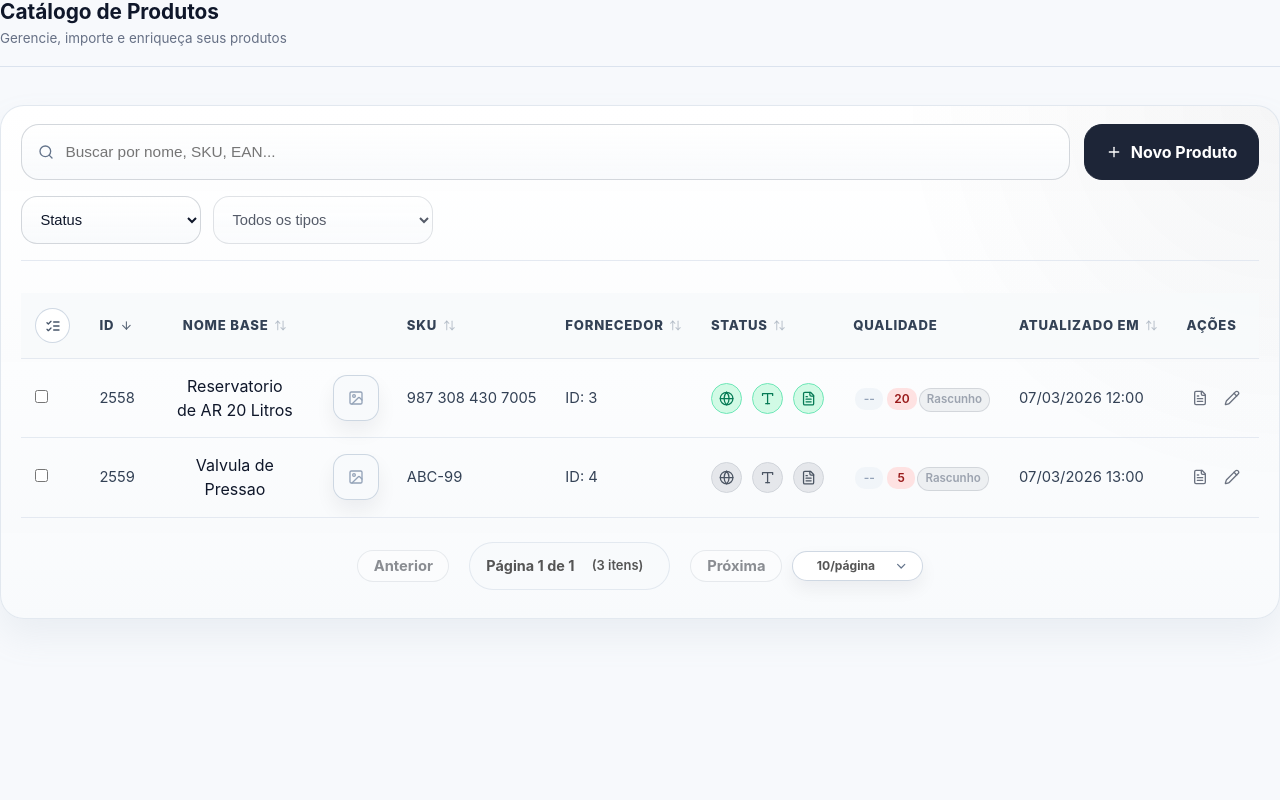
Test: ProdutosPage › supports selecting the current page and all filtered product results
The image size is (1280, 800).
Expected: the text "Reservatorio de AR 20 Litros" is shown, [149, 359, 320, 438]
Click the button named "Opções de seleção" at (53, 326), box [35, 308, 70, 343]
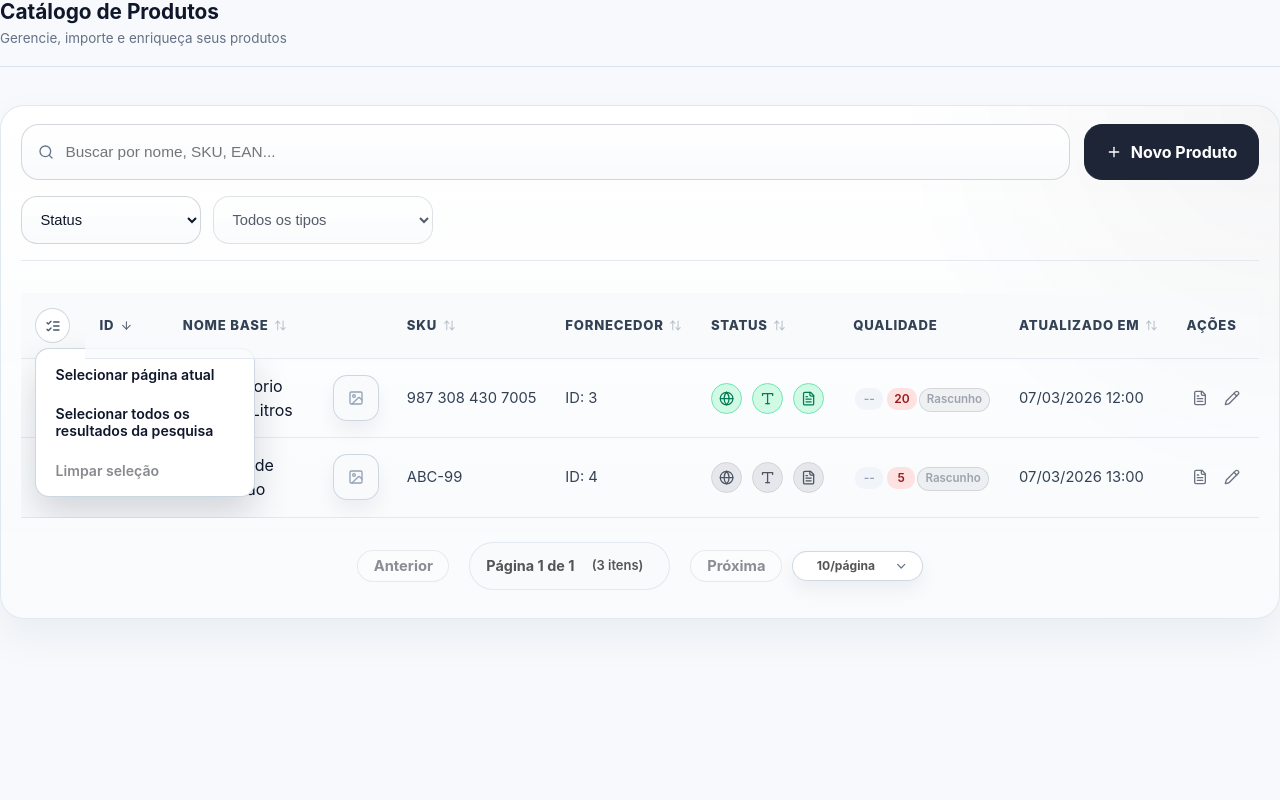
Click the menu item "Selecionar página atual" at (145, 375), box [42, 355, 249, 394]
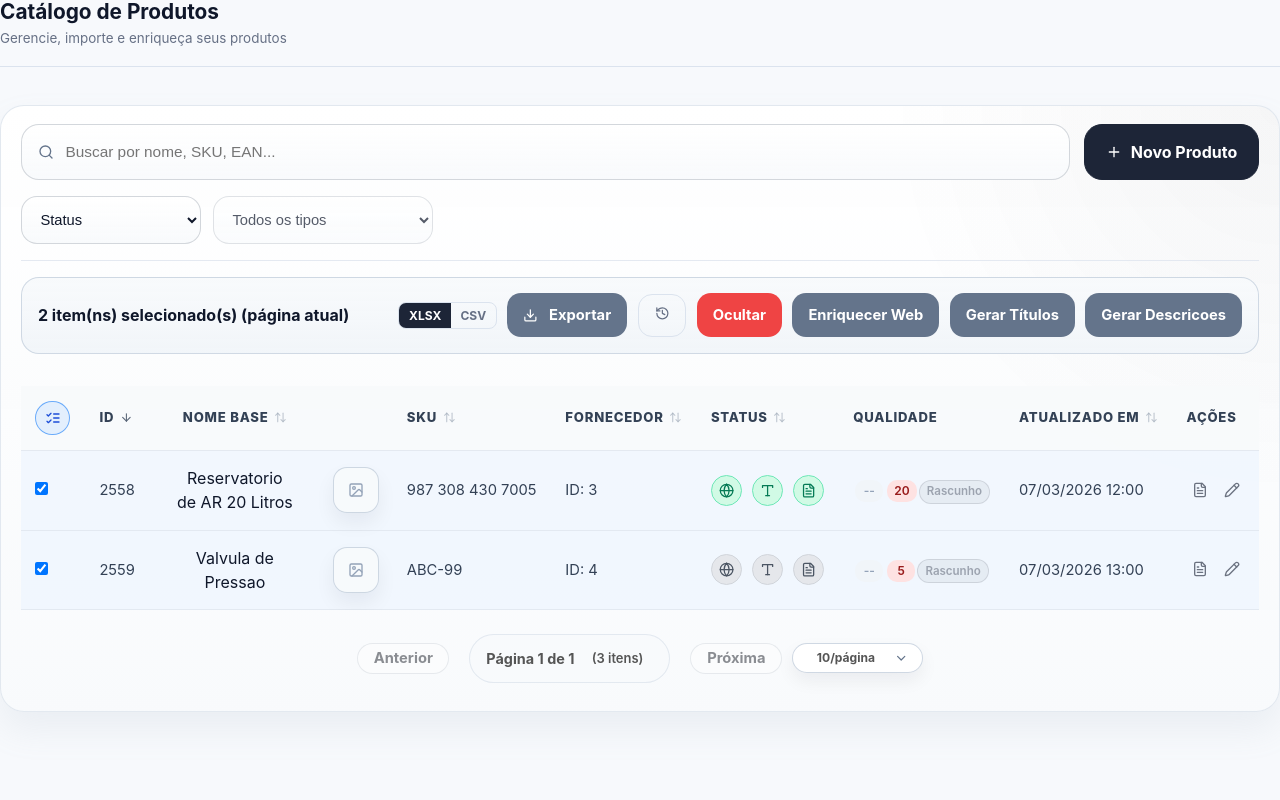
Expected: the text "2 item(ns) selecionado(s) (página atual)" is shown, [38, 303, 349, 327]
Click the button named "Opções de seleção" at (53, 418), box [35, 401, 70, 435]
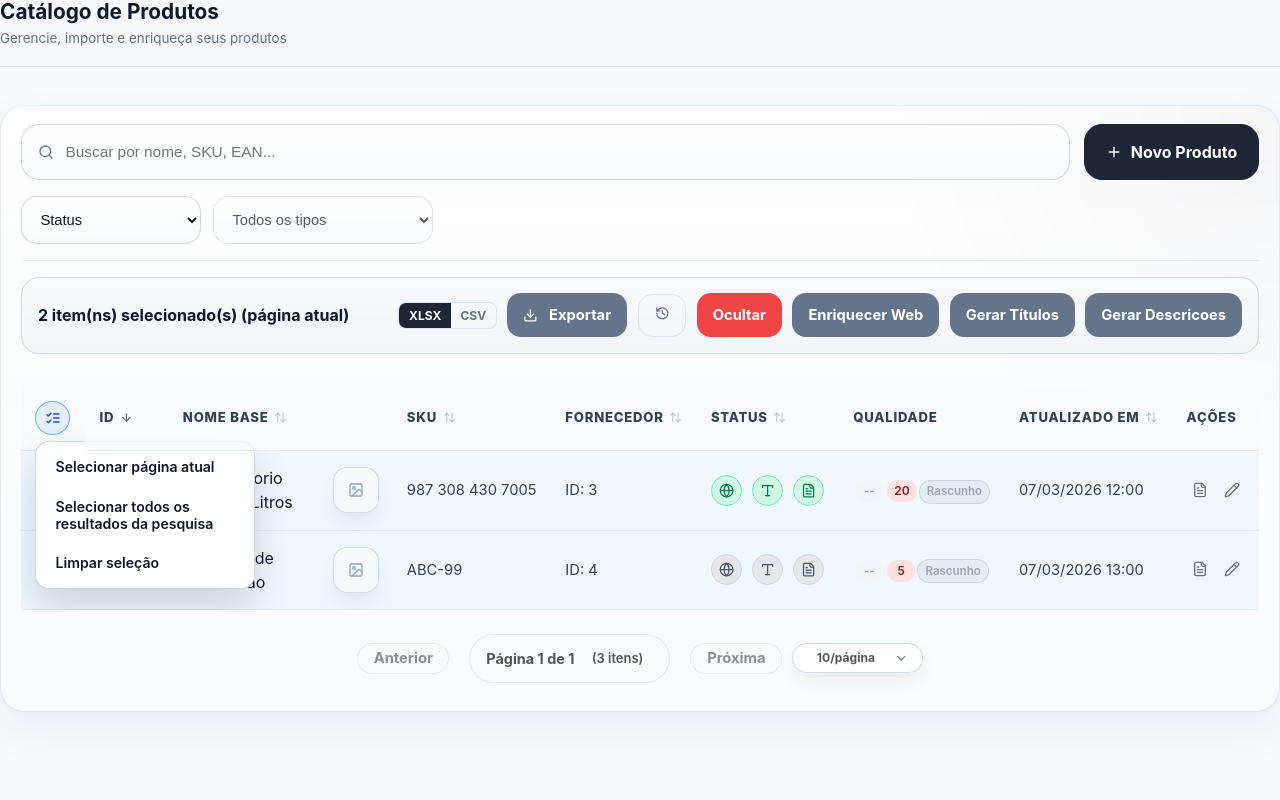
Click the menu item "Selecionar todos os resultados da pesquisa" at (145, 515), box [42, 487, 249, 543]
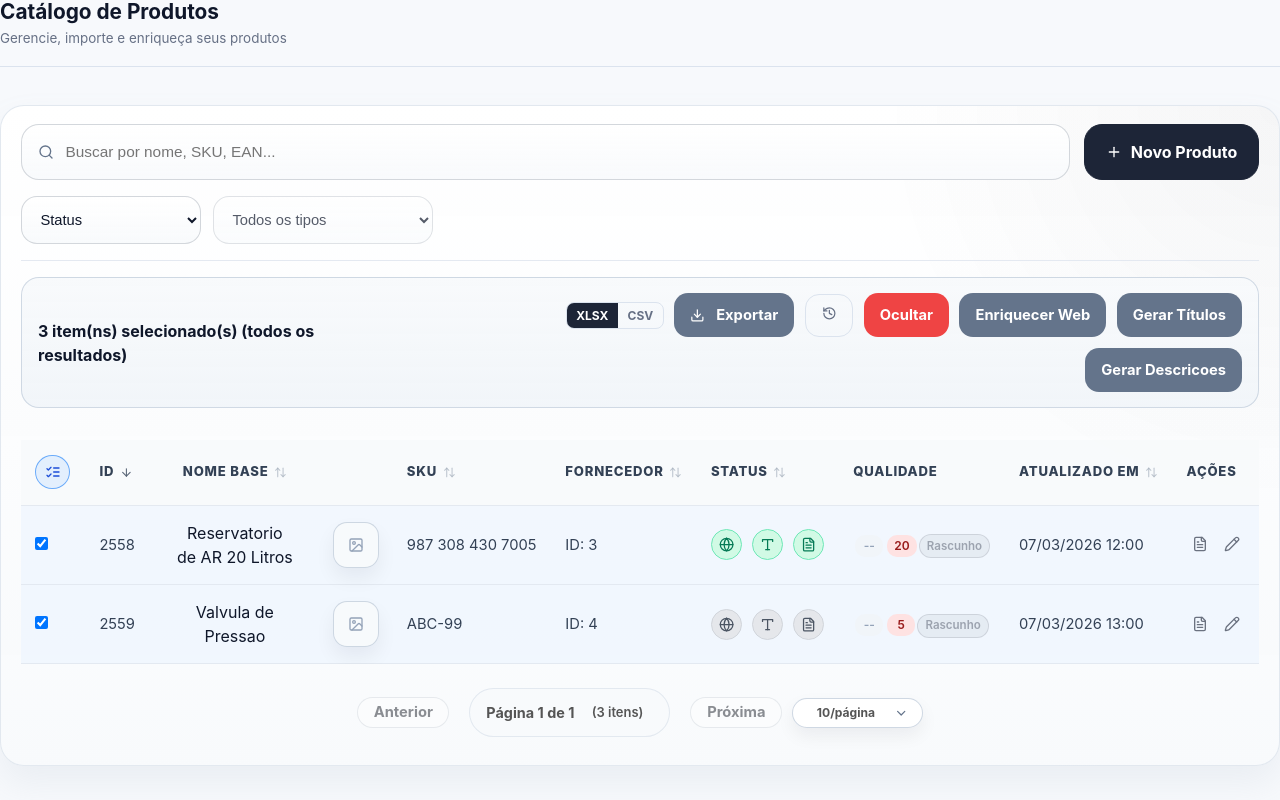
Expected: the text "3 item(ns) selecionado(s) (todos os resultados)" is shown, [38, 320, 314, 364]
Click the button named "Opções de seleção" at (53, 472), box [35, 455, 70, 490]
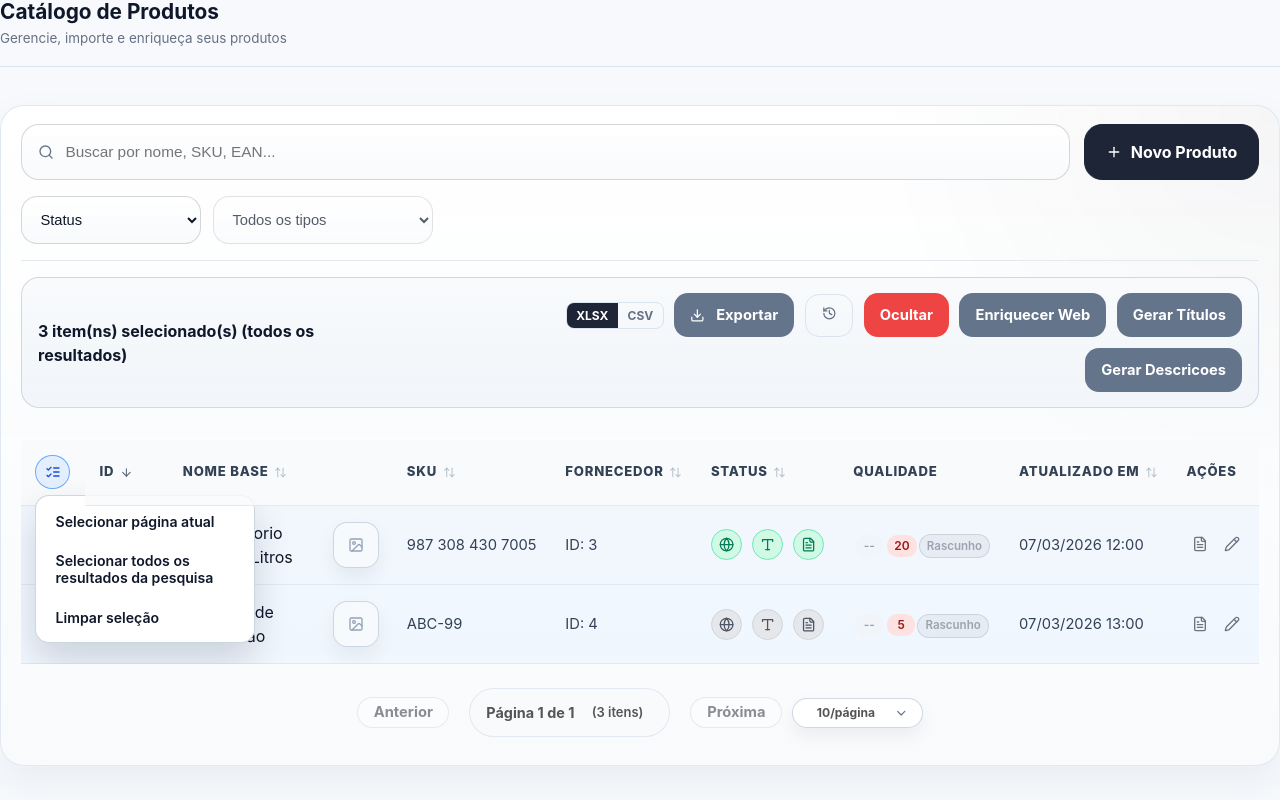
Expected: the menu item "Selecionar página atual" is shown, [42, 502, 249, 541]
